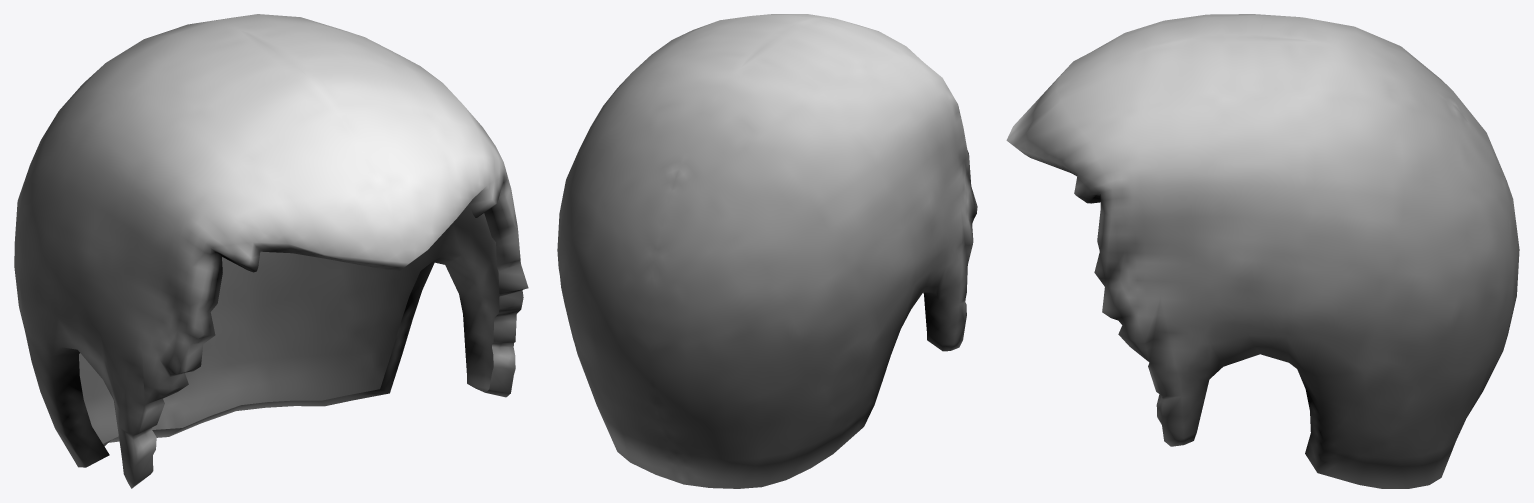
File: buzzed.glb
3 views of the same model, side by side, from view 1: azimuth 30°, elevation 25°; view 2: azimuth 150°, elevation 25°; view 3: azimuth 270°, elevation 25° (orthographic). The views are drawn at different scales.
Parts seen in each view (by area): view 1: Hair_Buzzed; view 2: Hair_Buzzed; view 3: Hair_Buzzed.
Part boxes in pixels (<box>): Hair_Buzzed: <box>14,14,528,488</box>; Hair_Buzzed: <box>557,14,977,488</box>; Hair_Buzzed: <box>1006,14,1519,488</box>.
Size of the model in its own units: 0.1546 by 0.1714 by 0.1897.
Materials: 1 (1 with a texture image).
